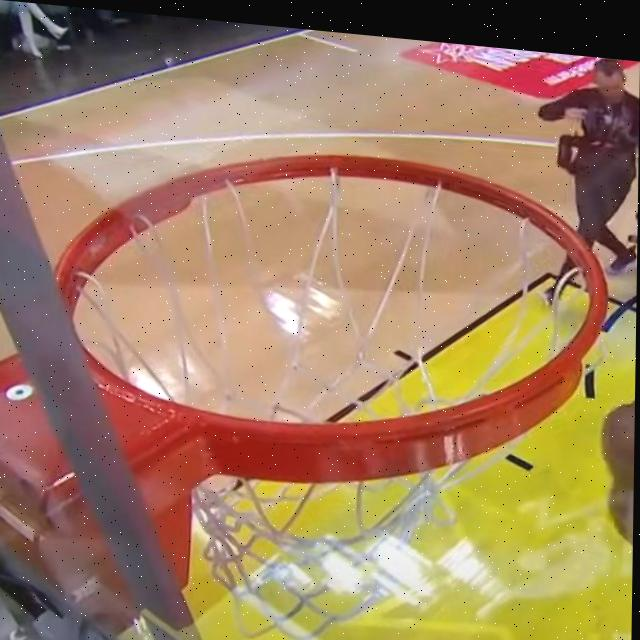hoop: (39, 204, 637, 622)
